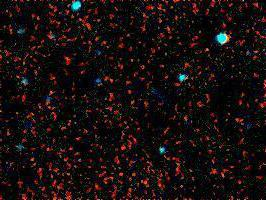star: (52, 45, 82, 75)
